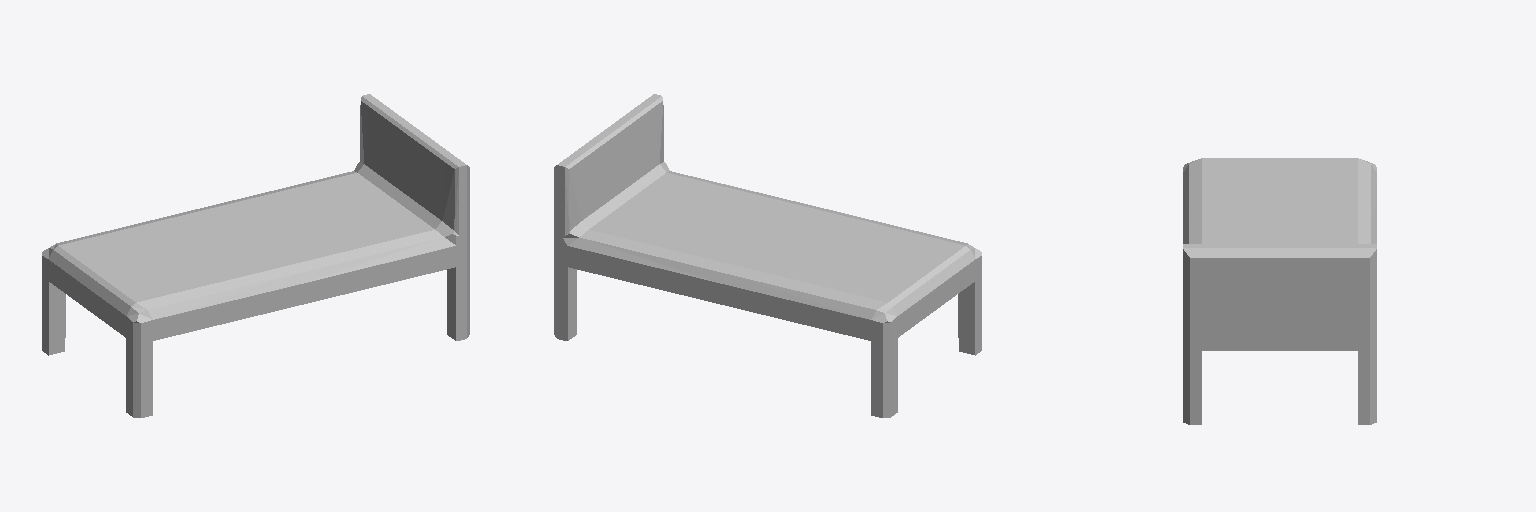
Rendered from LowBed.obj.
3 renders of one model, left to right at view 1: azimuth 30°, elevation 25°; view 2: azimuth 150°, elevation 25°; view 3: azimuth 270°, elevation 25°, orthographic.
Visible parts, largest first — view 1: pCube4; view 2: pCube4; view 3: pCube4.
Boxes of the visible parts, x1,y1,x2,y2 form: pCube4: [42, 94, 469, 417]; pCube4: [554, 94, 981, 417]; pCube4: [1183, 158, 1376, 424].
Size of the model in its own units: 2 by 0.9857 by 1.